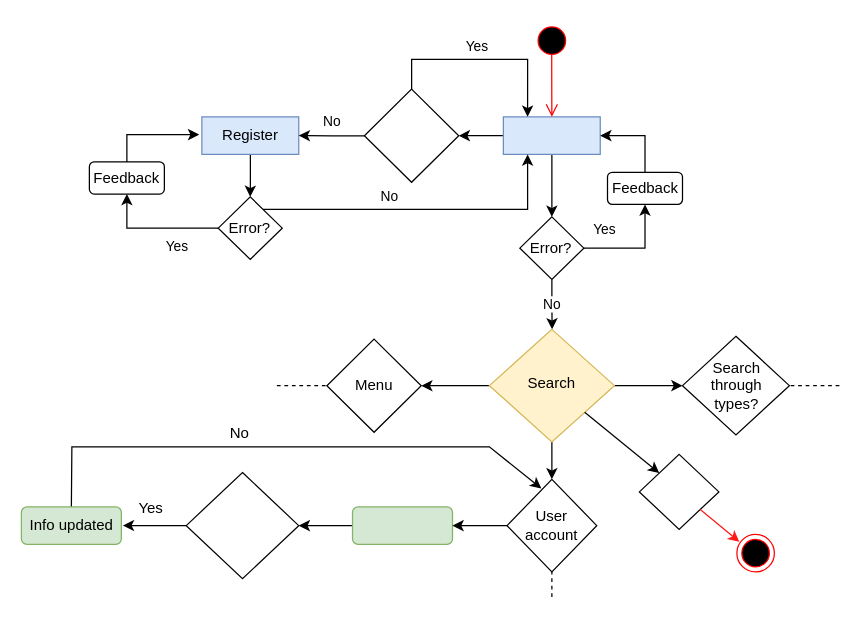
This 864x620 diagram has some shape labels left out. The centre of each missing label's shape, as x and y in pixels:
Login: the point at 551,135
Logout?: the point at 678,491
Update user info?: the point at 242,525
User exists?: the point at 411,135
User info: the point at 401,525
